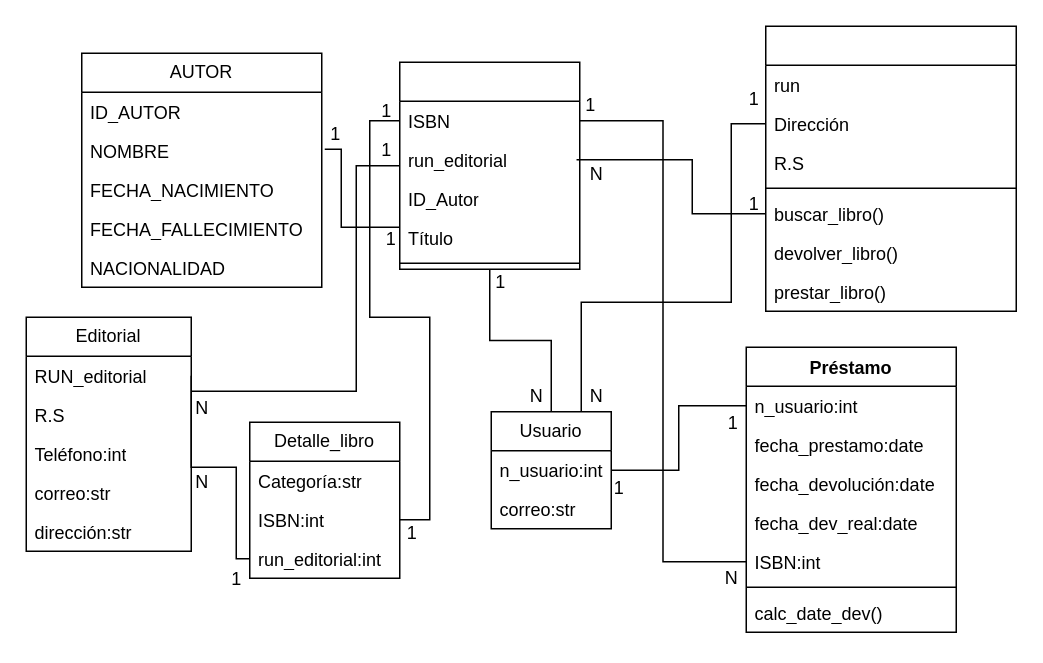
The diagram is 1043 pixels wide and 663 high, and some of its shapes have lost their labels. The shapes that lost their labels are listed below. From the top down, each one's box as (x1, y1, x2, y2) in pixels, then its label:
(398, 61, 580, 269): Libro
(764, 25, 1016, 311): Biblioteca
